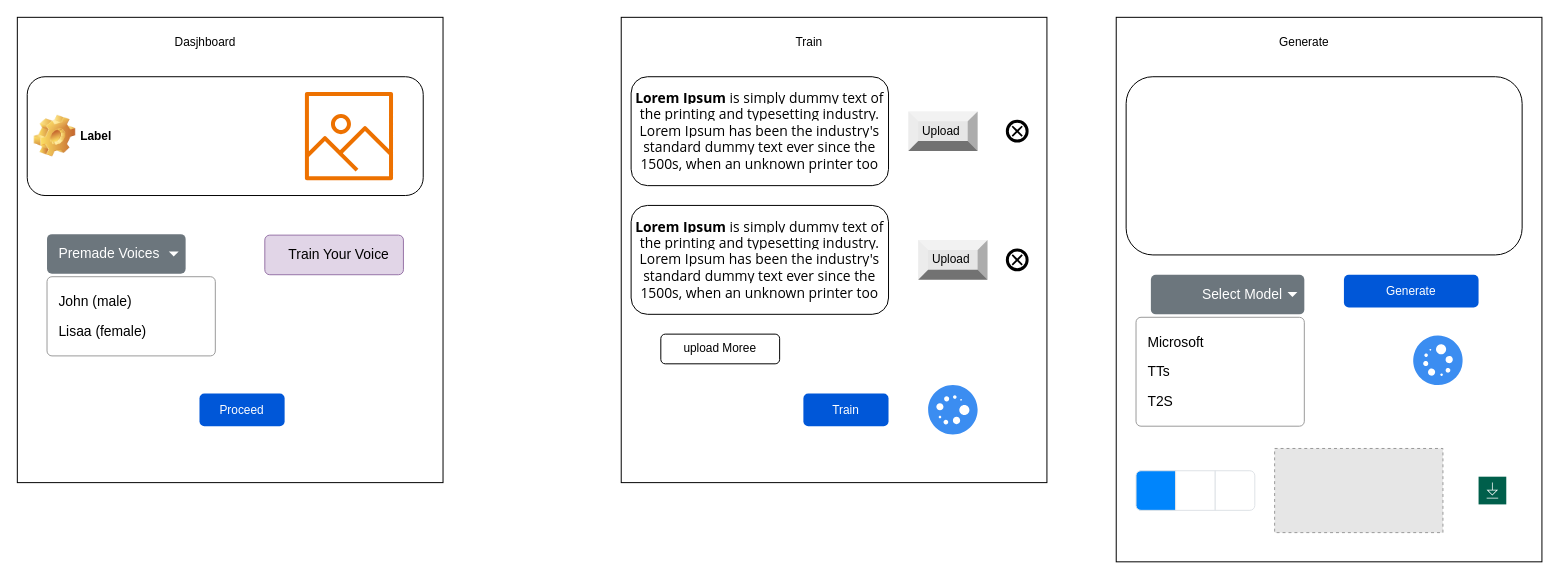
This 1559x579 diagram has some shape labels left out. Grey dashed boxes stand in for pictures. The shapes that lost their labels are listed below. From the top down, each one's centre as x and y in pixels, then its label:
At (x=1323, y=165): "upload text".
At (x=1155, y=490): "v1".
At (x=1195, y=490): "v2".
At (x=1234, y=490): "v3".
